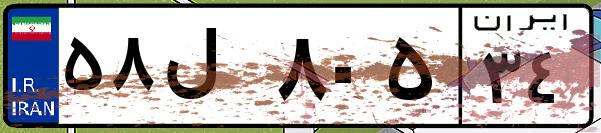0: (330, 28, 385, 110)
3: (475, 38, 525, 113)
4: (525, 38, 570, 115)
5: (385, 28, 445, 110), (57, 26, 110, 100)
8: (270, 28, 330, 110), (110, 28, 158, 98)
ل: (158, 20, 270, 120)
